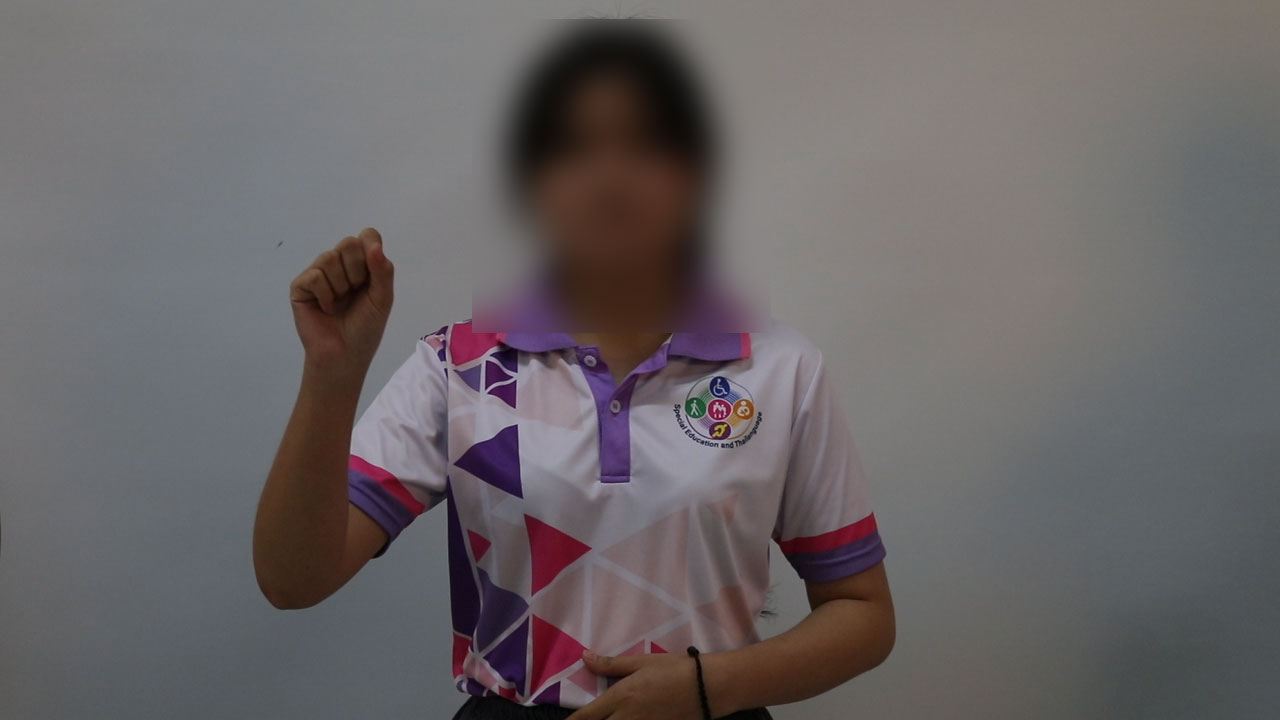sor: (268, 214, 399, 369)
